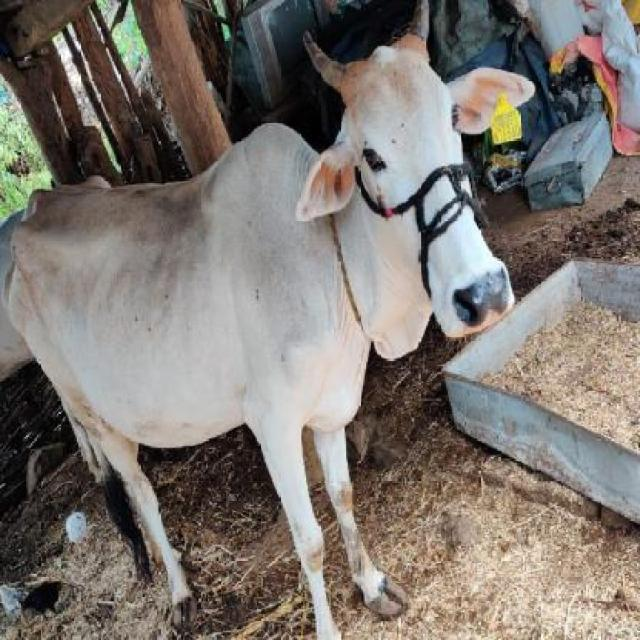Cow: (1, 0, 535, 638)
